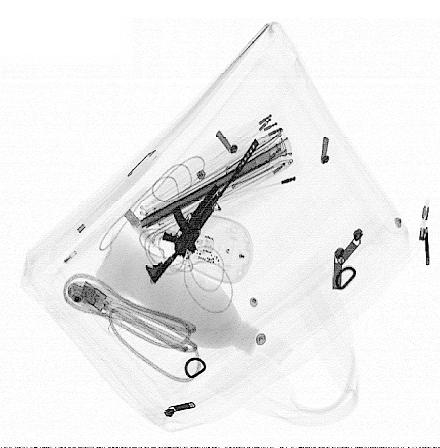Gun: (144, 138, 259, 285)
